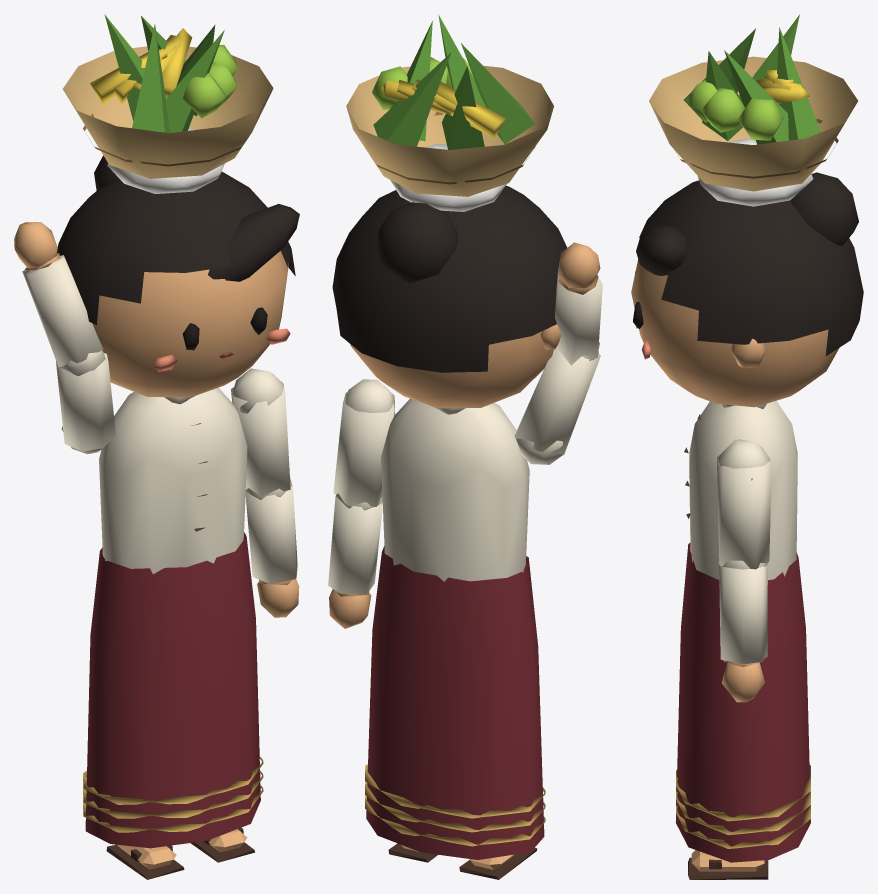
File: west_head_basket_woman.glb
The picture shows the model from 3 angles, left to right: view 1: azimuth 30°, elevation 25°; view 2: azimuth 150°, elevation 25°; view 3: azimuth 270°, elevation 25°; orthographic projection.
Visible parts, largest first — view 1: body, head, prop_head_basket, forearm_R, arm_L, forearm_L, arm_R, shin_R, shin_L; view 2: body, head, prop_head_basket, arm_L, arm_R, forearm_L, forearm_R, shin_R; view 3: body, head, prop_head_basket, arm_L, forearm_L, shin_L.
Boxes of the visible parts, bbox=[...] form: body: bbox=[83, 387, 263, 848]; head: bbox=[57, 155, 299, 397]; prop_head_basket: bbox=[63, 14, 273, 193]; forearm_R: bbox=[14, 222, 103, 368]; arm_L: bbox=[231, 368, 292, 499]; forearm_L: bbox=[245, 477, 299, 617]; arm_R: bbox=[56, 350, 115, 454]; shin_R: bbox=[106, 844, 184, 879]; shin_L: bbox=[190, 827, 254, 862]; body: bbox=[365, 398, 545, 859]; head: bbox=[332, 185, 567, 408]; prop_head_basket: bbox=[346, 14, 553, 211]; arm_L: bbox=[333, 379, 395, 510]; arm_R: bbox=[514, 347, 600, 464]; forearm_L: bbox=[328, 496, 382, 628]; forearm_R: bbox=[555, 242, 602, 365]; shin_R: bbox=[459, 848, 537, 879]; body: bbox=[675, 400, 810, 862]; head: bbox=[631, 172, 863, 407]; prop_head_basket: bbox=[649, 14, 857, 206]; arm_L: bbox=[717, 439, 771, 569]; forearm_L: bbox=[719, 559, 767, 702]; shin_L: bbox=[688, 850, 768, 879].
Size of the model in its own units: 0.623 by 1.78 by 0.4567.
